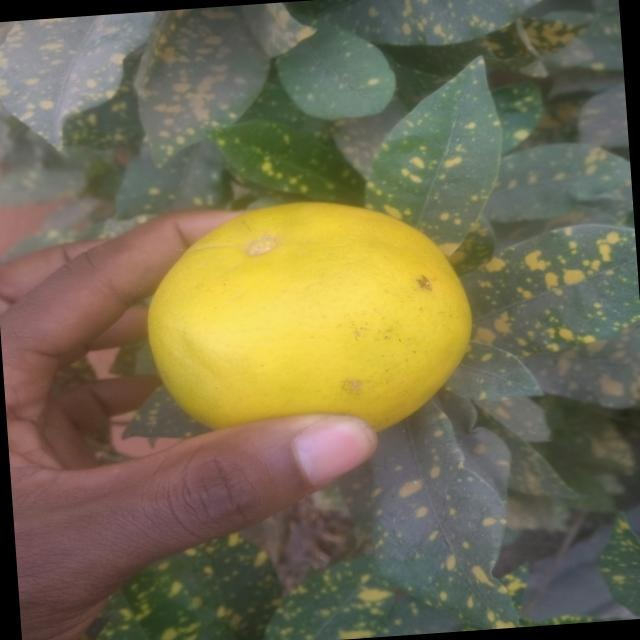agrume: (133, 183, 485, 465)
